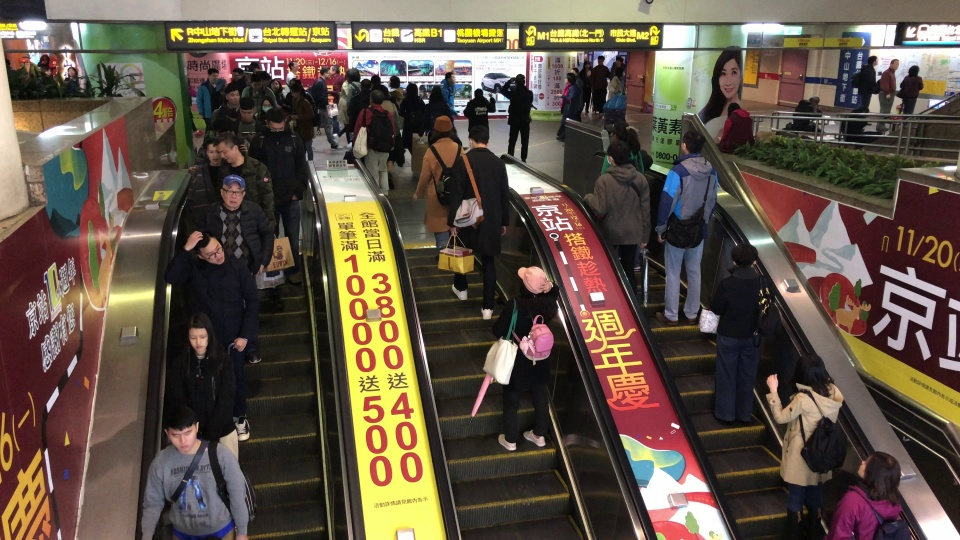person_head: (856, 450, 901, 500), (164, 406, 199, 452), (792, 352, 827, 389), (185, 312, 213, 352), (194, 232, 226, 265), (516, 265, 547, 297), (220, 174, 246, 208), (213, 132, 239, 164), (428, 114, 456, 142), (730, 242, 758, 269), (605, 140, 631, 167), (264, 108, 286, 139), (680, 129, 705, 156), (467, 124, 490, 150), (204, 137, 224, 164), (610, 119, 632, 143), (237, 97, 255, 121), (213, 117, 232, 138), (224, 83, 240, 106), (259, 95, 275, 114), (368, 89, 384, 106), (249, 73, 264, 91), (428, 85, 443, 103), (375, 84, 389, 101), (289, 82, 303, 98), (231, 67, 245, 82), (726, 102, 740, 117), (206, 67, 219, 83), (289, 76, 302, 92), (347, 67, 360, 82), (387, 76, 401, 89), (405, 82, 418, 96), (443, 72, 456, 86), (243, 65, 255, 80), (907, 65, 920, 78), (360, 78, 372, 92), (866, 55, 879, 67), (564, 72, 576, 84), (514, 73, 525, 86), (269, 79, 280, 91), (287, 60, 298, 72), (808, 96, 820, 107), (320, 66, 330, 79), (889, 58, 899, 71), (370, 75, 381, 86), (473, 87, 484, 98), (614, 66, 625, 77), (249, 61, 261, 71), (66, 66, 77, 76), (614, 55, 624, 66), (42, 66, 52, 76), (330, 65, 340, 75), (597, 55, 605, 66), (22, 53, 31, 62), (582, 59, 590, 69), (570, 67, 579, 75), (344, 69, 348, 82), (41, 53, 48, 60), (50, 51, 56, 57)
person_vbox: (163, 230, 259, 441), (140, 406, 250, 540), (764, 352, 840, 539), (212, 131, 284, 313), (490, 265, 560, 452), (207, 175, 275, 364), (445, 123, 509, 321), (654, 129, 718, 327), (709, 242, 775, 426), (163, 311, 240, 468), (247, 107, 310, 286), (582, 140, 650, 299), (411, 115, 466, 263), (825, 450, 905, 540), (352, 89, 396, 198), (185, 137, 230, 240), (186, 117, 249, 177), (499, 72, 534, 165), (311, 66, 343, 151), (599, 119, 645, 177), (375, 84, 400, 190), (195, 66, 226, 147), (283, 76, 319, 139), (287, 82, 315, 163), (398, 82, 427, 157), (554, 71, 582, 148), (715, 101, 755, 153), (346, 78, 372, 156), (851, 54, 879, 125), (875, 57, 899, 133), (895, 64, 924, 126), (331, 69, 353, 148), (840, 105, 882, 146), (424, 84, 456, 136), (461, 87, 496, 134), (229, 96, 264, 142), (210, 83, 242, 131), (240, 73, 277, 113), (326, 65, 344, 135), (790, 95, 823, 133), (590, 55, 609, 114), (386, 75, 404, 130), (439, 71, 459, 118), (570, 66, 584, 123), (579, 59, 592, 114), (607, 66, 626, 102), (346, 67, 360, 115), (17, 52, 40, 80), (284, 60, 299, 99), (267, 78, 285, 106), (64, 65, 80, 91), (609, 55, 625, 81), (48, 50, 58, 85), (37, 52, 51, 72), (259, 71, 271, 85)
